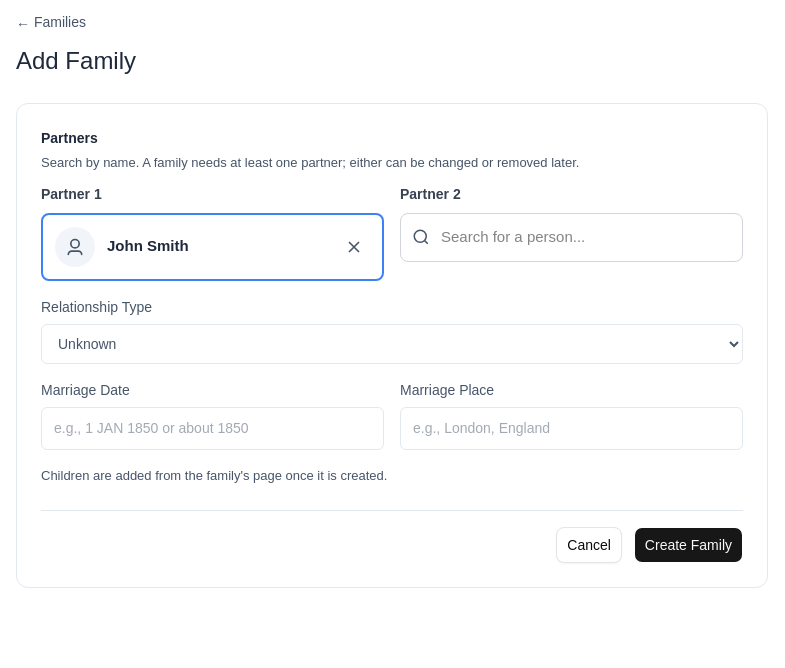
Test: Add Family page dates (#996) › offers no Keep as text for a date that reads but does not exist
Expected: the button named "Clear Partner 1: John Smith" is shown, [338,231,370,263]
Type "31 FEB 1900" into the field labelled "Marriage Date". click: x=212, y=428
box: [41,407,384,450]
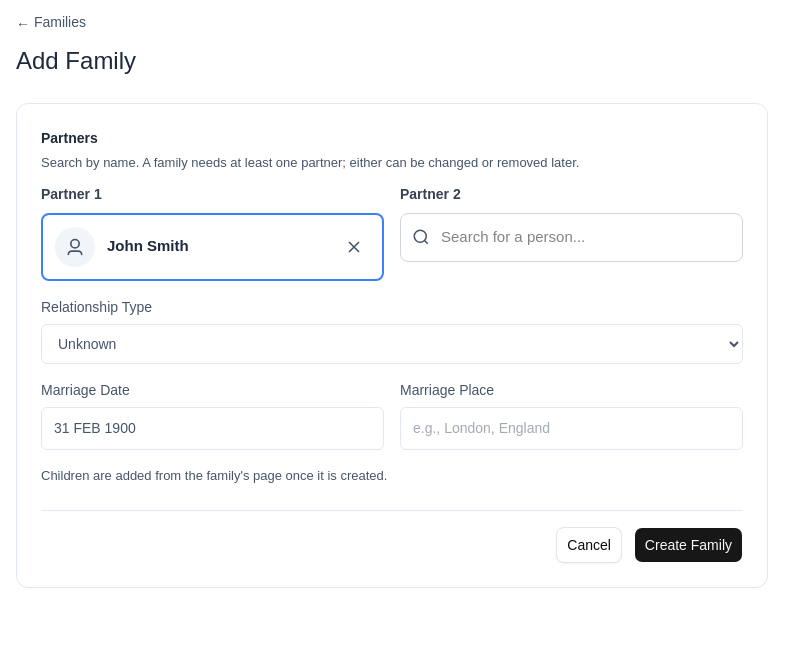
Click the button "Create Family". click: x=688, y=544
box: [634,526,743,562]
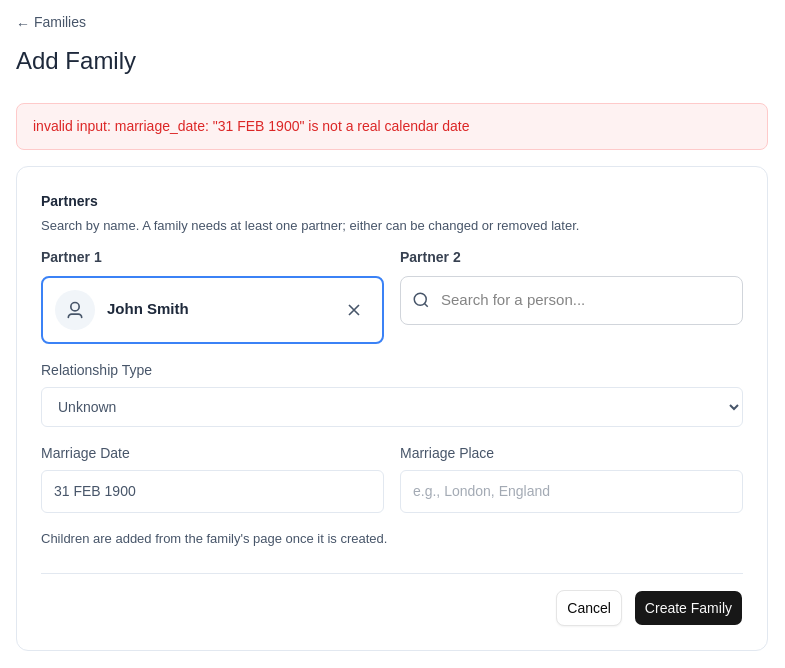
Result: the message shows "is not a real calendar date" at [33,118,469,134]
